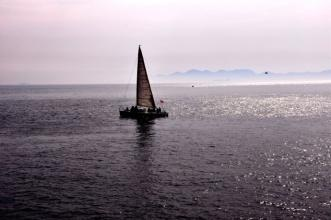fanchuan: (114, 43, 170, 124)
